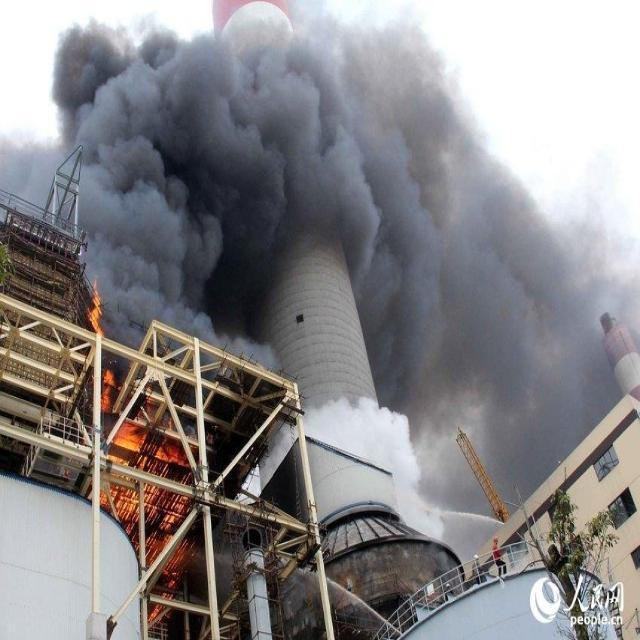Fire: (98, 369, 194, 623), (85, 280, 105, 334)
Smoke: (1, 11, 640, 561)
